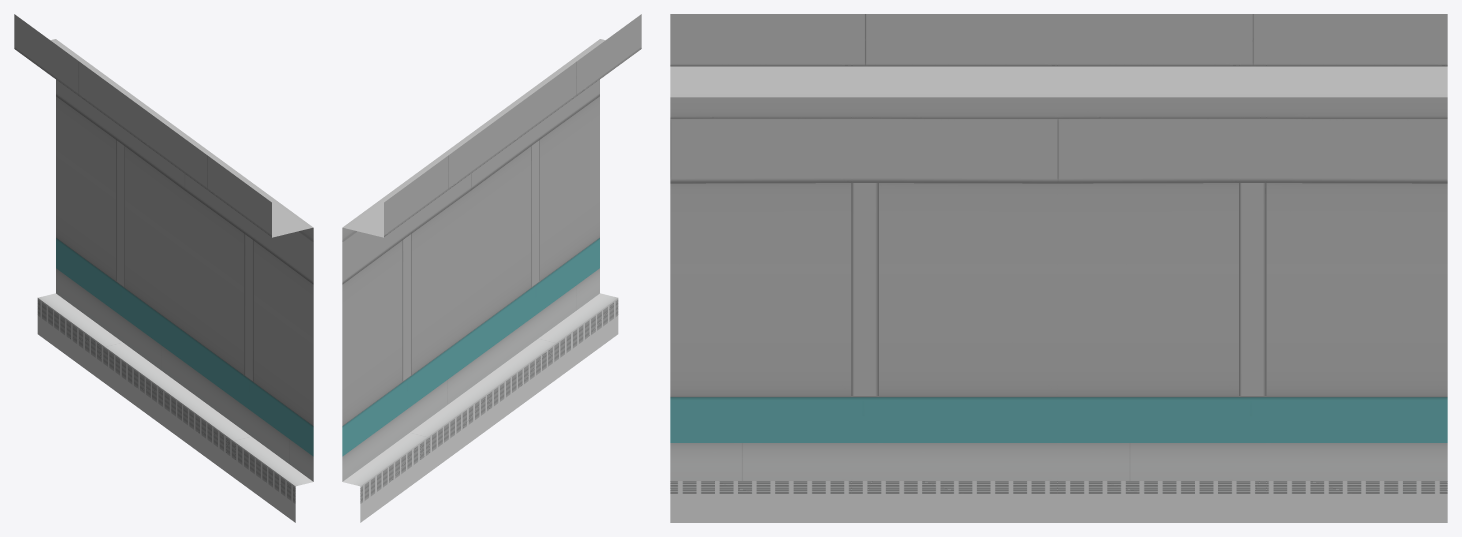
File: TrainWallLong.fbx
3 views of the same model, side by side, from view 1: azimuth 30°, elevation 25°; view 2: azimuth 150°, elevation 25°; view 3: azimuth 270°, elevation 25° (orthographic). The views are drawn at different scales.
Parts seen in each view (by area): view 1: WallBaseLong; view 2: WallBaseLong; view 3: WallBaseLong.
Boxes of the visible parts, x1,y1,x2,y2 form: WallBaseLong: (14,14,313,522); WallBaseLong: (342,14,641,522); WallBaseLong: (670,14,1447,522).
Size of the model in its own units: 37.32 by 280 by 401.
